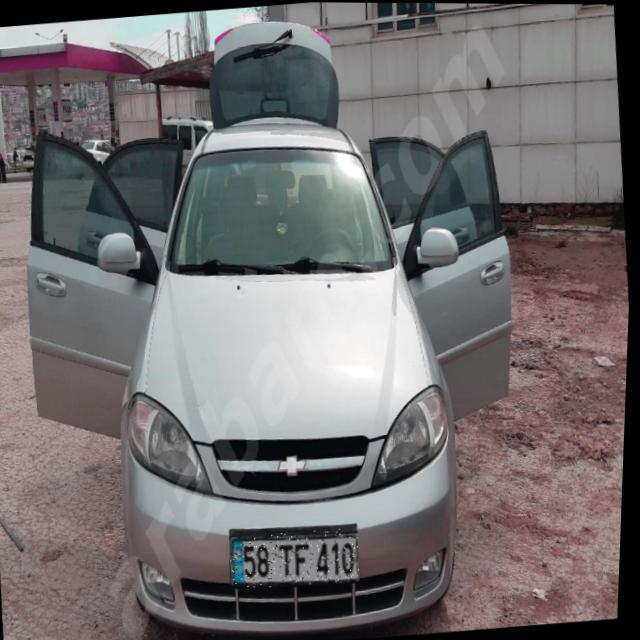license_plate: (231, 526, 365, 592)
